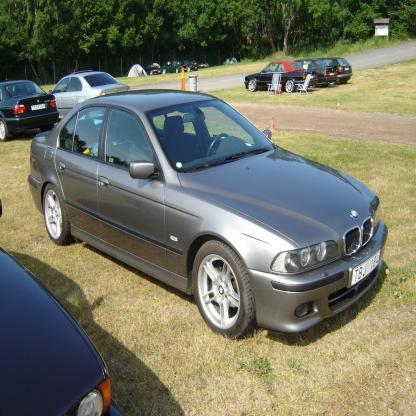Car: (30, 86, 389, 347), (1, 200, 127, 416), (49, 68, 133, 121), (1, 80, 60, 143), (245, 63, 319, 93), (300, 60, 341, 86), (324, 58, 352, 85), (164, 62, 188, 75), (143, 66, 164, 76), (185, 63, 199, 71), (193, 60, 199, 65)
